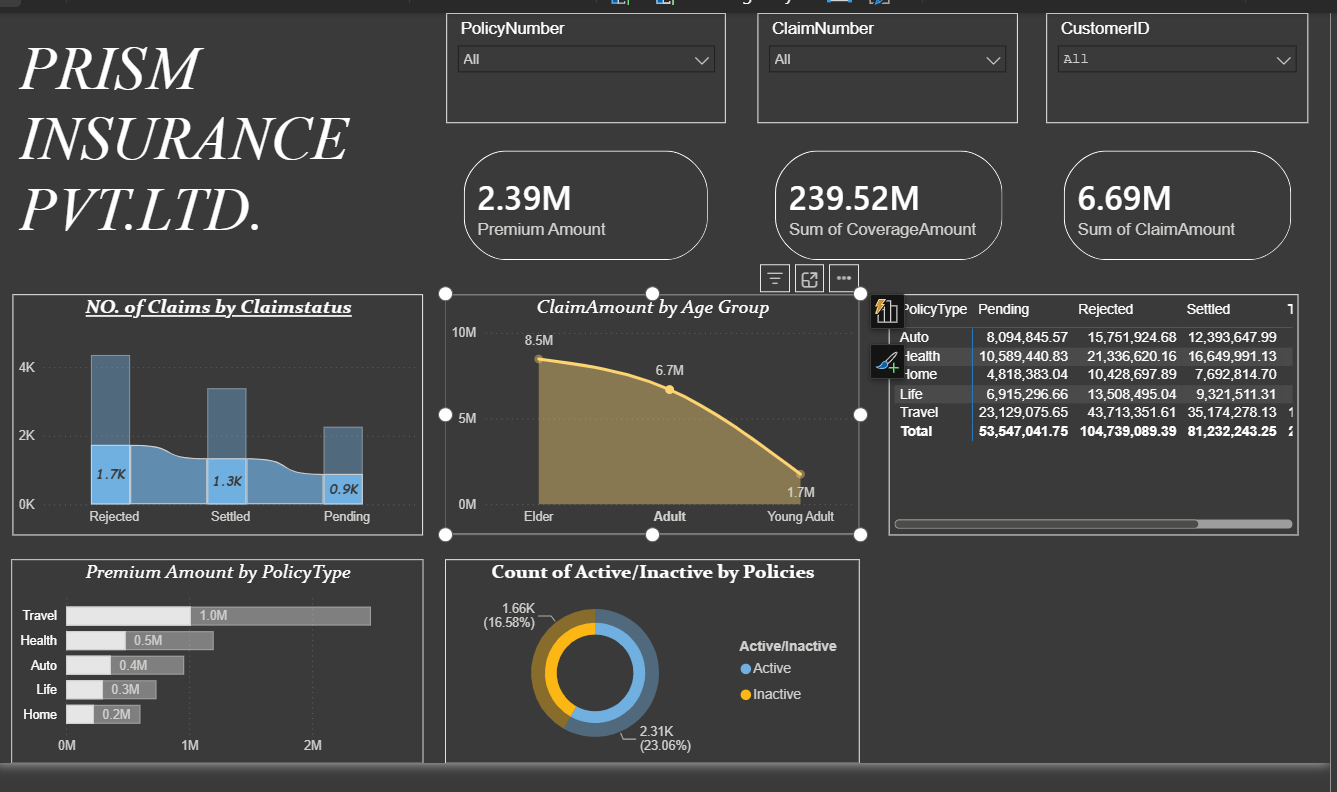

The dashboard page shown, as its layout file describes it:
{"tool":"powerbi","page":{"name":"Dashboard","canvas":[1280,720],"ordinal":0},"visuals":[{"type":"slicer","fields":{"Values":["InsuranceData.PolicyNumber"]},"box":[432.8,0,268.4,105.3],"z":0},{"type":"slicer","fields":{"Values":["InsuranceData.ClaimNumber"]},"box":[731.5,0,249.6,105.3],"z":1000},{"type":"slicer","fields":{"Values":["InsuranceData.CustomerID"]},"box":[1008.5,0,251,105.3],"z":2000},{"type":"textbox","box":[17.8,16,393.3,227.8],"z":3000},{"type":"cardVisual","fields":{"Data":["Sum(InsuranceData.PremiumAmount)"]},"box":[432.2,114.9,252.9,139.1],"z":4000},{"type":"cardVisual","fields":{"Data":["Sum(InsuranceData.CoverageAmount)"]},"box":[731,114.9,252.9,139.1],"z":5000},{"type":"cardVisual","fields":{"Data":["Sum(InsuranceData.ClaimAmount)"]},"box":[1008,114.9,252.9,139.1],"z":6000},{"type":"ribbonChart","title":"NO. of  Claims by Claimstatus","fields":{"Category":["InsuranceData.ClaimStatus"],"Y":["CountNonNull(InsuranceData.ClaimStatus)"]},"box":[17.3,269.8,393.9,230.8],"z":7000},{"type":"barChart","title":"Premium Amount by PolicyType","fields":{"Category":["InsuranceData.PolicyType"],"Y":["Sum(InsuranceData.PremiumAmount)"]},"box":[15.9,523.7,395.3,196.2],"z":8000},{"type":"lineChart","title":"ClaimAmount by Age Group","fields":{"Category":["InsuranceData.Age Group"],"Y":["Sum(InsuranceData.ClaimAmount)"]},"box":[431.9,269.9,397.5,230.7],"z":9000},{"type":"pivotTable","fields":{"Rows":["InsuranceData.PolicyType"],"Values":["Sum(InsuranceData.CoverageAmount)"],"Columns":["InsuranceData.ClaimStatus"]},"box":[857.5,270.1,393.1,231],"z":10000},{"type":"donutChart","title":"Count of Active/Inactive by Policies","fields":{"Category":["InsuranceData.Active/Inactive"],"Y":["CountNonNull(InsuranceData.Active/Inactive)"]},"box":[431.9,523.9,397.5,196.3],"z":11000}]}

Visuals, with their boxes on the page's 1280x720 design canvas (x1, y1, x2, y2). These are canvas units, not pixel positions in the 1337x792 screenshot, which may show the page scaled, cropped or inside an application window:
slicer - InsuranceData.PolicyNumber: {"x1": 433, "y1": 0, "x2": 701, "y2": 105}
slicer - InsuranceData.ClaimNumber: {"x1": 732, "y1": 0, "x2": 981, "y2": 105}
slicer - InsuranceData.CustomerID: {"x1": 1008, "y1": 0, "x2": 1260, "y2": 105}
textbox: {"x1": 18, "y1": 16, "x2": 411, "y2": 244}
cardVisual - Sum(InsuranceData.PremiumAmount): {"x1": 432, "y1": 115, "x2": 685, "y2": 254}
cardVisual - Sum(InsuranceData.CoverageAmount): {"x1": 731, "y1": 115, "x2": 984, "y2": 254}
cardVisual - Sum(InsuranceData.ClaimAmount): {"x1": 1008, "y1": 115, "x2": 1261, "y2": 254}
"NO. of  Claims by Claimstatus" ribbonChart: {"x1": 17, "y1": 270, "x2": 411, "y2": 501}
"Premium Amount by PolicyType" barChart: {"x1": 16, "y1": 524, "x2": 411, "y2": 720}
"ClaimAmount by Age Group" lineChart: {"x1": 432, "y1": 270, "x2": 829, "y2": 501}
pivotTable - InsuranceData.PolicyType x Sum(InsuranceData.CoverageAmount): {"x1": 858, "y1": 270, "x2": 1251, "y2": 501}
"Count of Active/Inactive by Policies" donutChart: {"x1": 432, "y1": 524, "x2": 829, "y2": 720}
